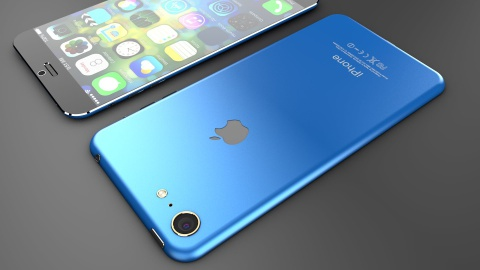apple: (198, 103, 258, 156)
